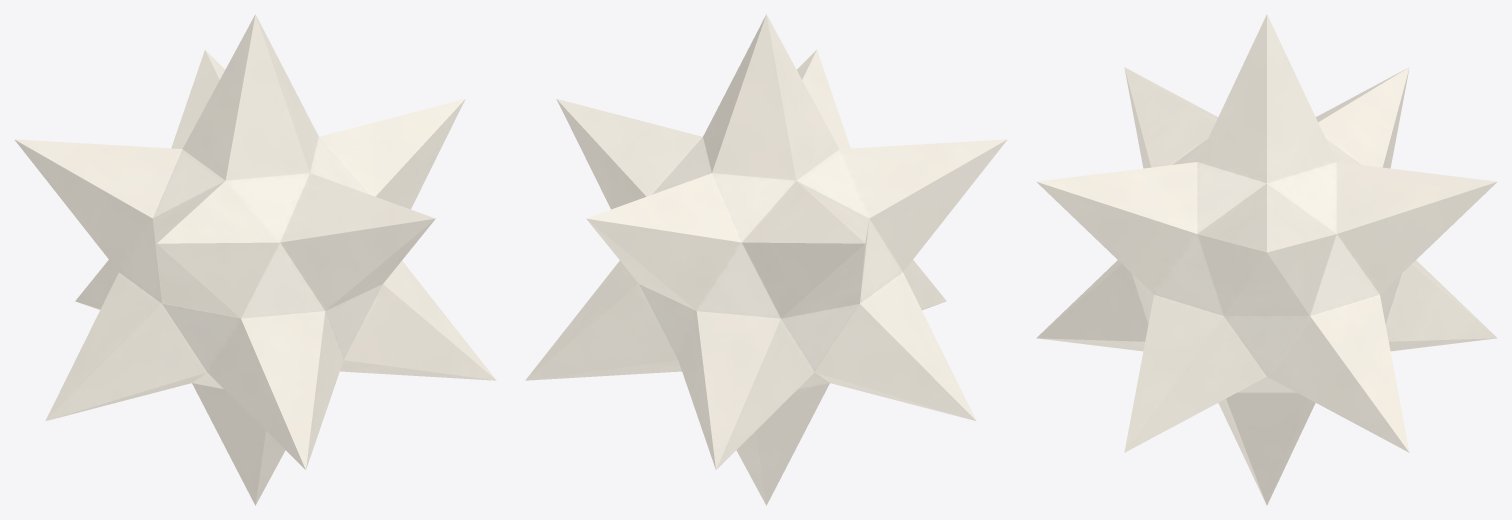
The model's file is star-willow.glb.
3 views of the same model, side by side, from view 1: azimuth 30°, elevation 25°; view 2: azimuth 150°, elevation 25°; view 3: azimuth 270°, elevation 25° (orthographic).
Parts seen in each view (by area): view 1: Star_Willow; view 2: Star_Willow; view 3: Star_Willow.
Boxes of the visible parts, x1,y1,x2,y2 form: Star_Willow: (14, 14, 496, 505); Star_Willow: (525, 14, 1007, 505); Star_Willow: (1036, 14, 1497, 505).
Bounding box in the file's own units: 3.13 × 3.5 × 2.98.
1 material, 1 textured.
